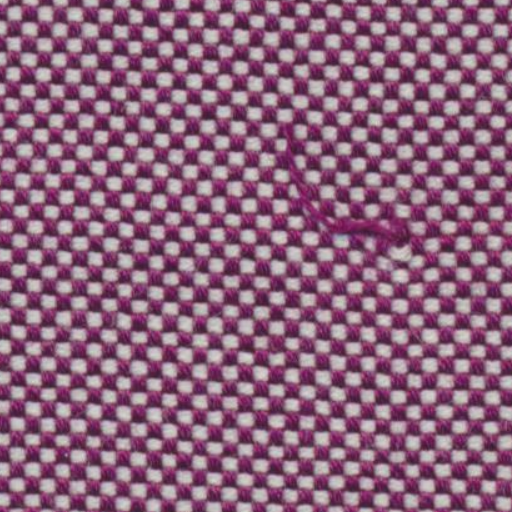DuanSha: (264, 114, 440, 258)
